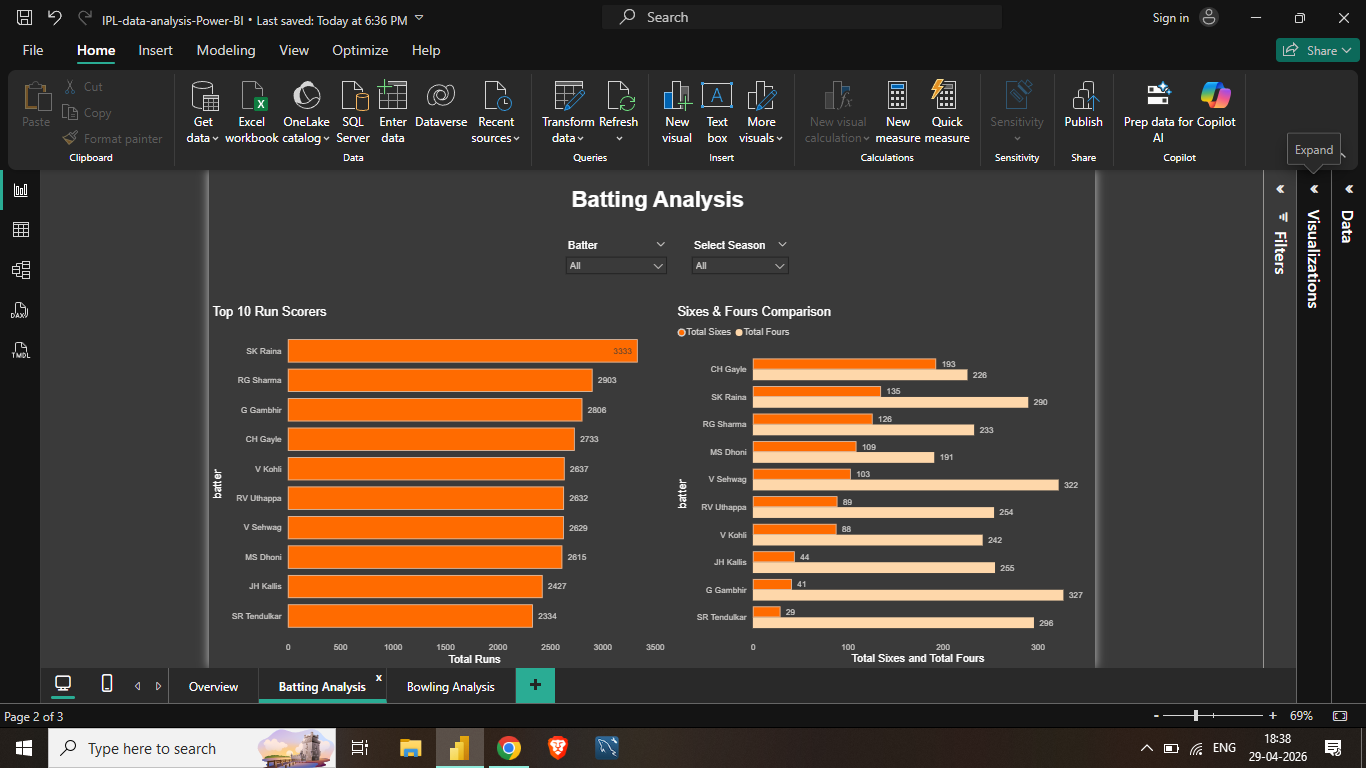

What the dashboard file says about the page in this screenshot:
{"tool":"powerbi","page":{"name":"Batting Analysis","canvas":[1280,720],"ordinal":1},"visuals":[{"type":"barChart","title":"Top 10 Run Scorers","fields":{"Category":["ipl_analysis deliveries.batter"],"Y":["ipl_analysis deliveries.Total Runs"]},"box":[0,193.4,672.8,526.5],"z":0},{"type":"clusteredBarChart","title":"Sixes & Fours Comparison","fields":{"Category":["ipl_analysis deliveries.batter"],"Y":["ipl_analysis deliveries.Total Sixes","ipl_analysis deliveries.Total Fours"]},"box":[672.8,193.4,607.2,526.5],"z":1000},{"type":"textbox","box":[519.6,19.1,336.1,61.7],"z":2000},{"type":"slicer","fields":{"Values":["ipl_analysis deliveries.batter"]},"box":[506,95.4,166.3,78.1],"z":3000},{"type":"slicer","fields":{"Values":["ipl_analysis matches.season"]},"box":[688.4,95.4,160,77.8],"z":4000}]}

Visuals, with their boxes on the page's 1280x720 design canvas (x1, y1, x2, y2). These are canvas units, not pixel positions in the 1366x768 screenshot, which may show the page scaled, cropped or inside an application window:
"Top 10 Run Scorers" barChart: 0,193,673,720
"Sixes & Fours Comparison" clusteredBarChart: 673,193,1280,720
textbox: 520,19,856,81
slicer - ipl_analysis deliveries.batter: 506,95,672,174
slicer - ipl_analysis matches.season: 688,95,848,173
